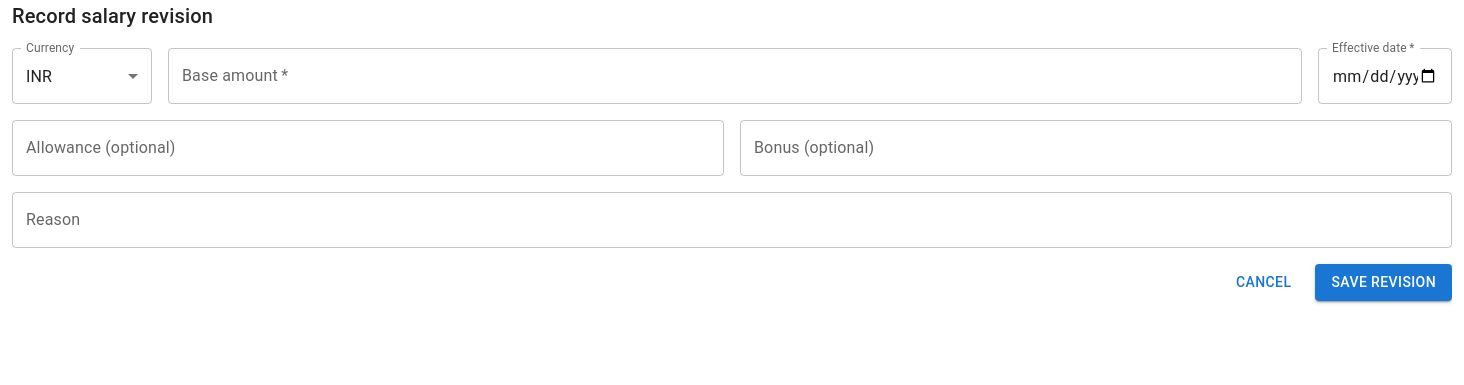
Test: RevisionForm › explains a duplicate effective date
Expected: the dropdown "INR" is shown, [26,66,52,86]
Step 1. Type "100.00" into the field labelled "Base amount *" → (735, 76), box [168,48,1302,104]
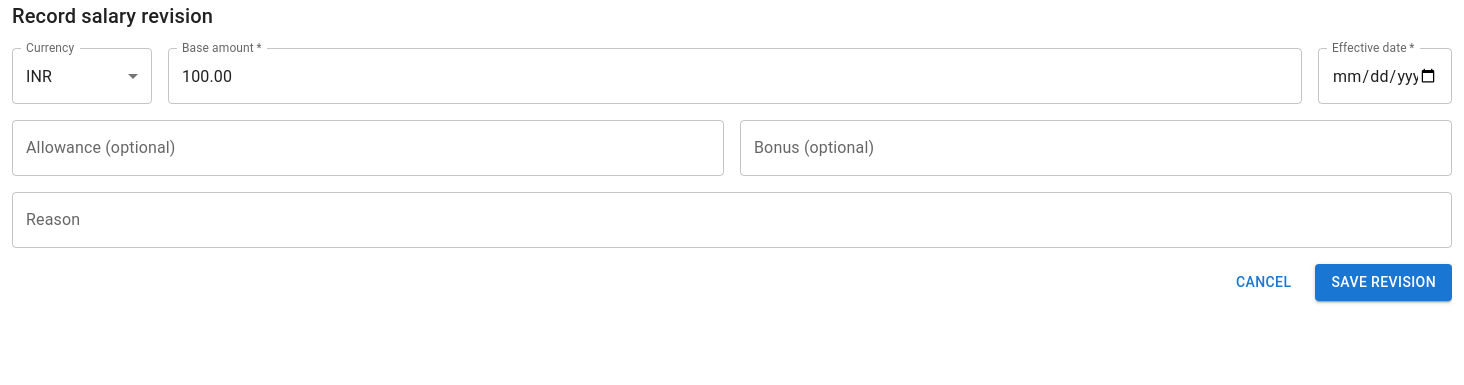
Step 2. Type "2026-04-01" into the date field labelled "Effective date *" → (1385, 76), box [1318,48,1452,104]
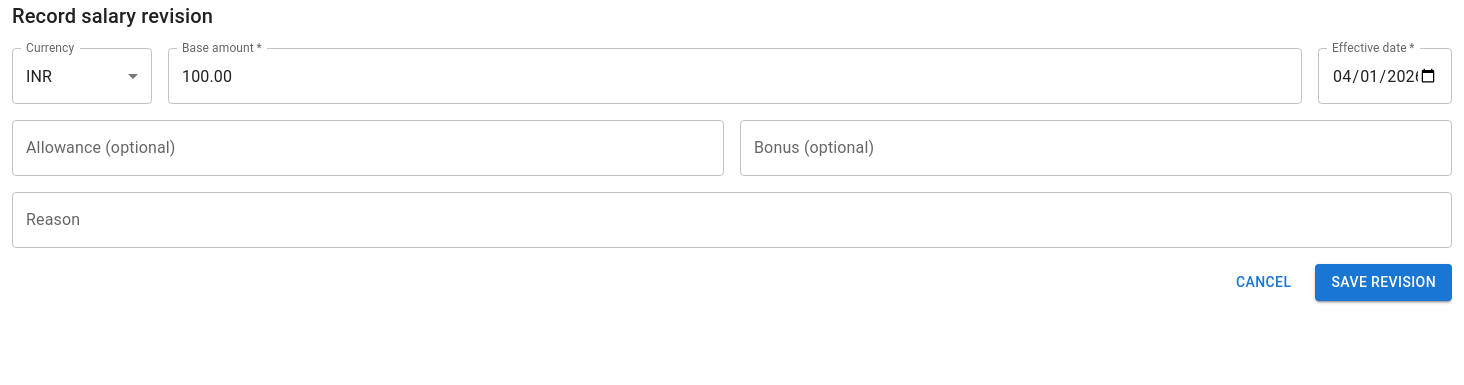
Step 3. Click the button "Save revision" → (1384, 282), box [1315,264,1452,300]
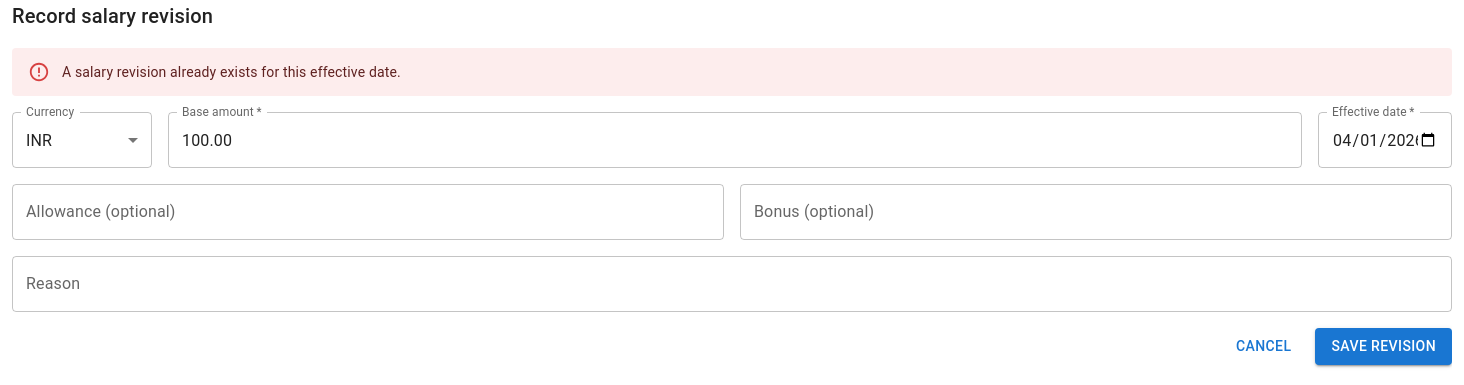
Now the text "A salary revision already exists for this effective date." is shown, box [62,64,401,80]
